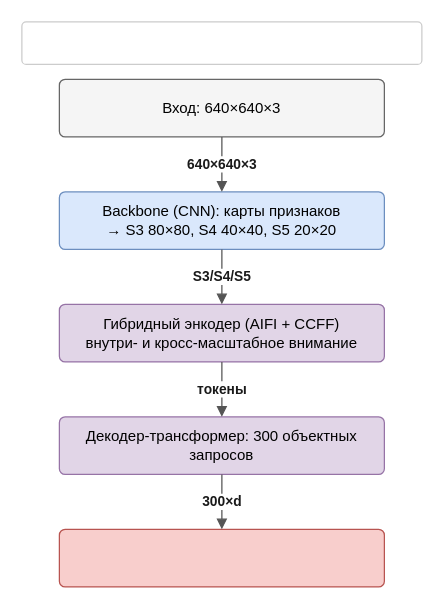
The diagram is 444 pixels wide and 609 high, and some of its shapes have lost their labels. The centre of each missing label's shape, as x and y in pixels:
"RT-DETR-L — трансформерный детектор (~33 млн)" goes at point (221, 42).
"Выход: 300 предсказаний — рамки + классы (без NMS)" goes at point (221, 557).
